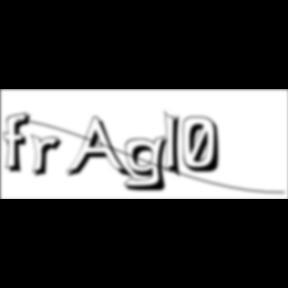0: (182, 115, 228, 174)
A: (66, 116, 136, 182)
f: (4, 111, 36, 175)
g: (124, 134, 176, 194)
l: (164, 108, 188, 182)
r: (31, 134, 69, 180)
